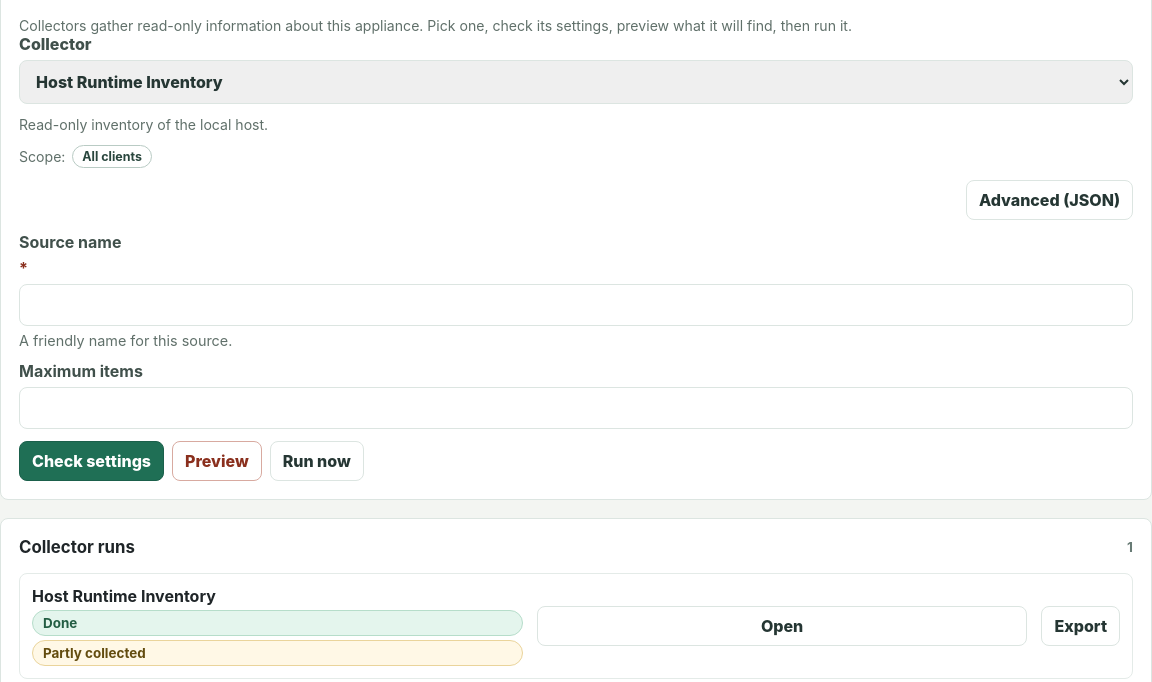
Scenario: Collectors screen › exports a run with the backend's POST contract and renders the report
The width and height of the screenshot is (1152, 682).
Click the button "Export". click: (1081, 626)
box: [1042, 606, 1120, 646]
(page scrolled)
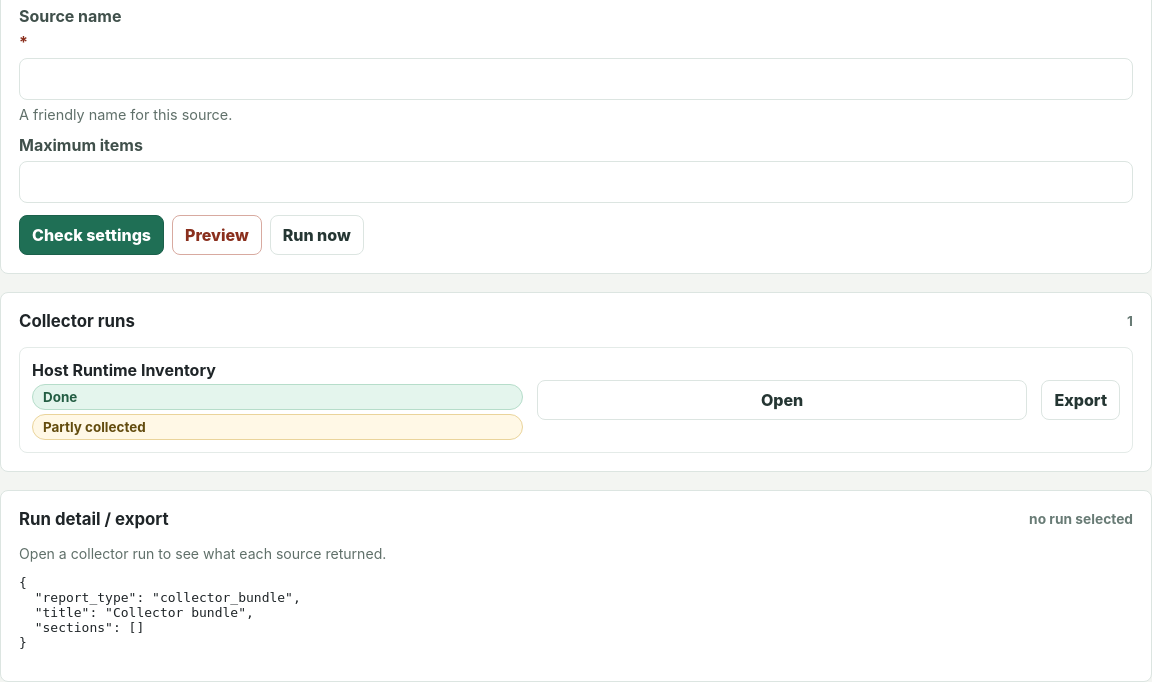
Expected: the text "Collector bundle" is shown, [19, 575, 301, 650]
